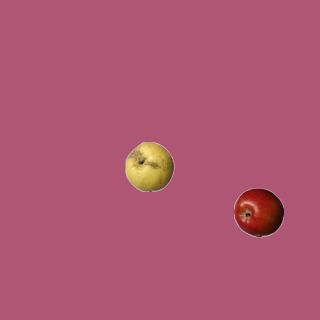Apple Braeburn: (233, 187, 283, 237)
Apple Golden 1: (124, 141, 174, 191)
